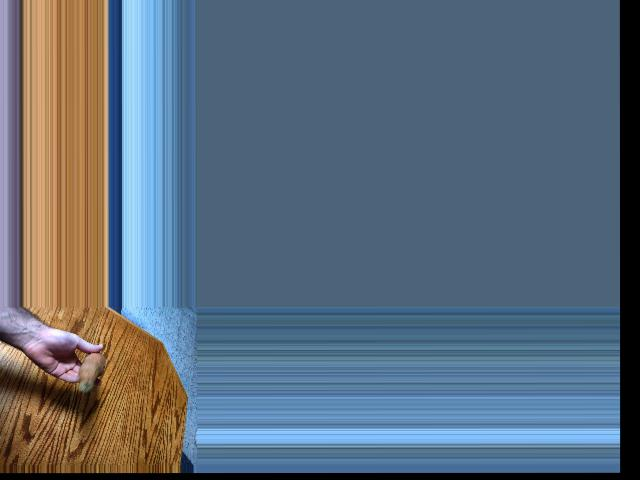sweet_potato: (74, 349, 100, 392)
